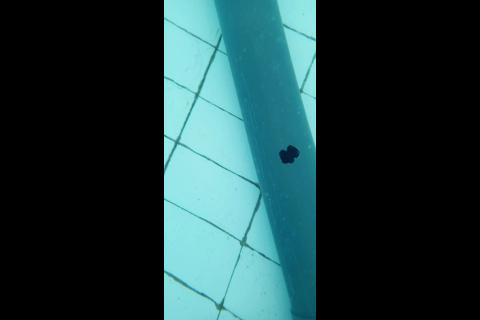kebocoran: (277, 142, 299, 165)
